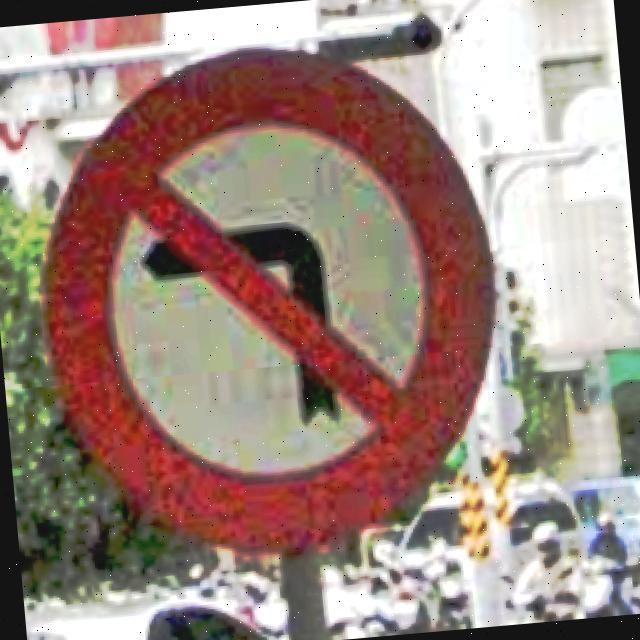noturnleft: (45, 48, 493, 557)
